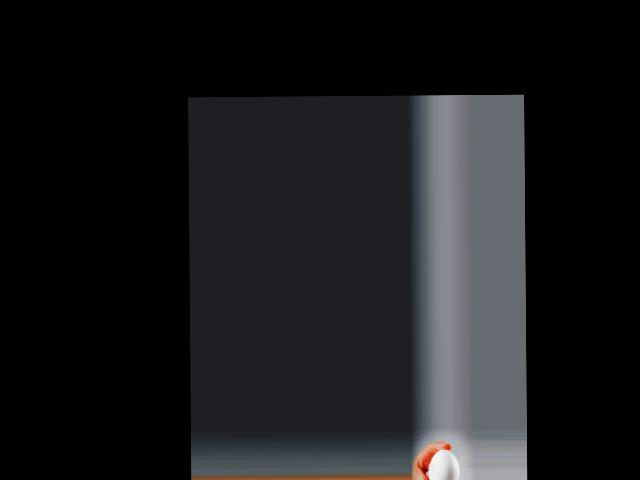egg: (429, 448, 459, 480)
